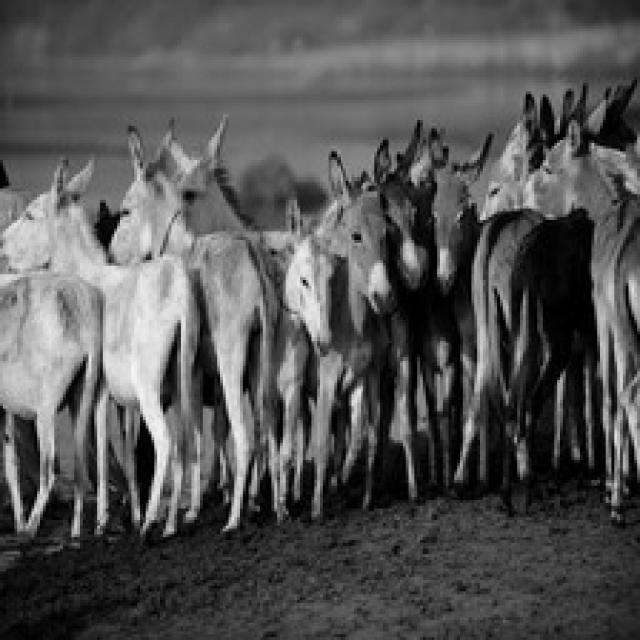Donkey: (0, 77, 637, 552), (0, 154, 200, 543), (106, 120, 277, 534), (0, 266, 103, 546)
